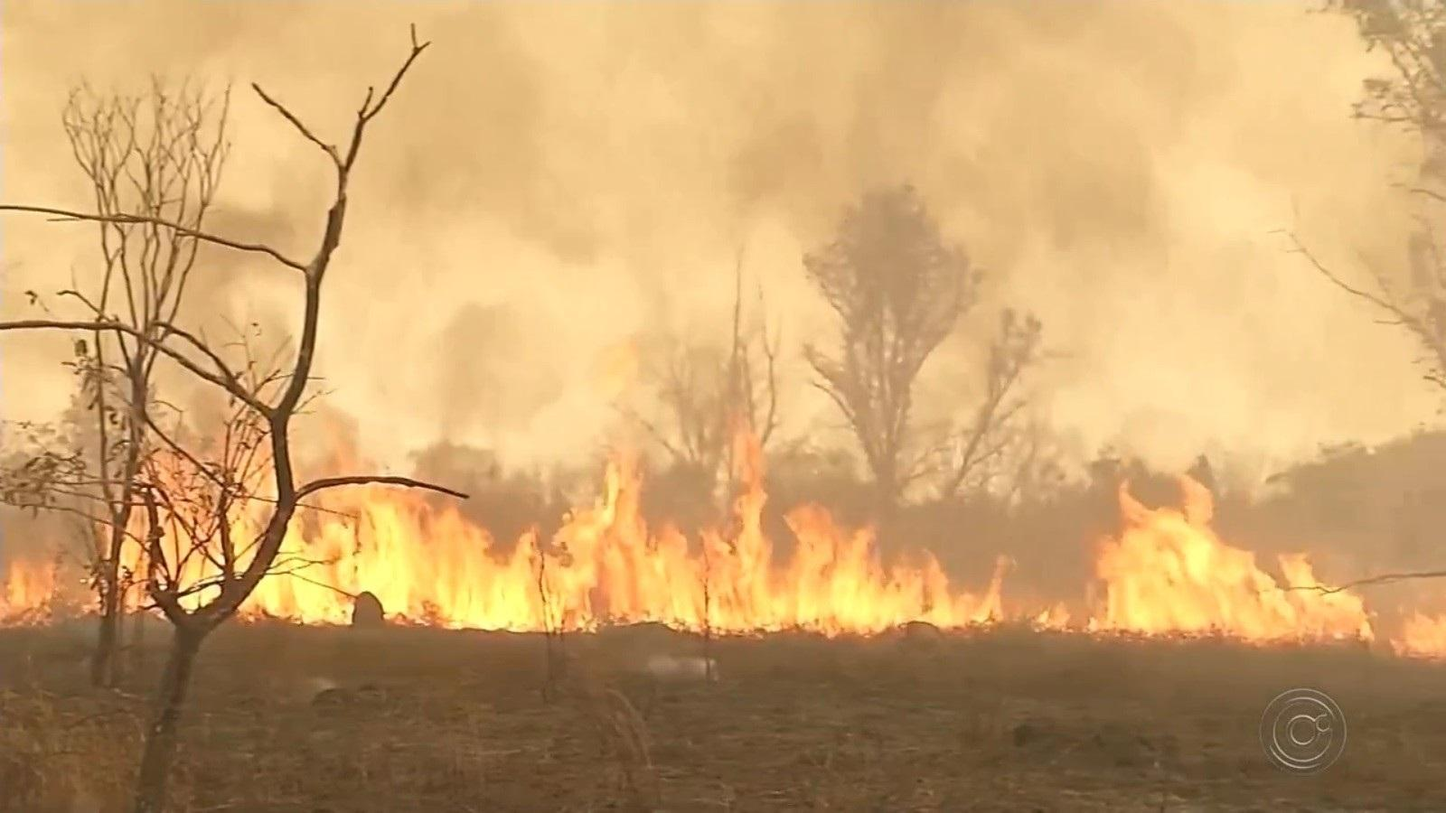fire: (93, 447, 1013, 627), (1043, 492, 1342, 646), (7, 543, 70, 626)
